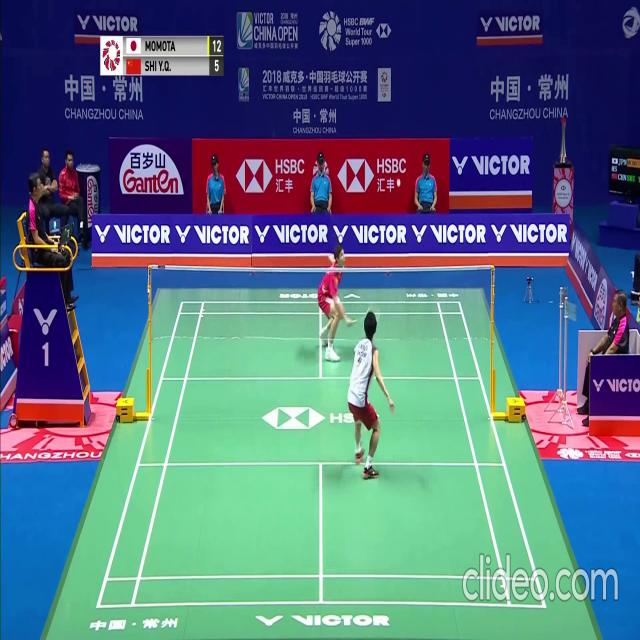Shuttlecock: (396, 179, 401, 186)
